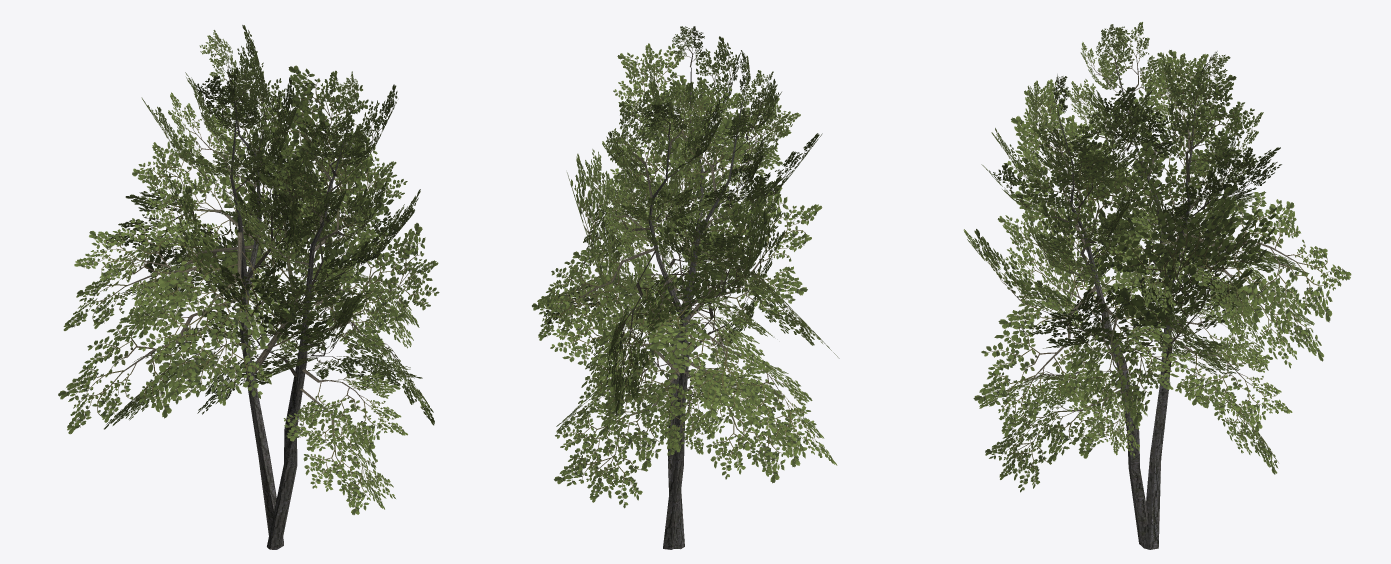
Rendered from Tree-01-1.gltf.
The picture shows the model from 3 angles, left to right: view 1: azimuth 30°, elevation 25°; view 2: azimuth 150°, elevation 25°; view 3: azimuth 270°, elevation 25°; orthographic projection. The views are drawn at different scales.
Visible parts, largest first — view 1: Tree-01-1; view 2: Tree-01-1; view 3: Tree-01-1.
Part boxes in pixels (bbox=[...]): Tree-01-1: bbox=[58, 25, 439, 549]; Tree-01-1: bbox=[532, 26, 839, 549]; Tree-01-1: bbox=[963, 22, 1351, 549].
Bounding box in the file's own units: 5.06 × 7.39 × 6.17.
Materials: 3 (3 with a texture image).
